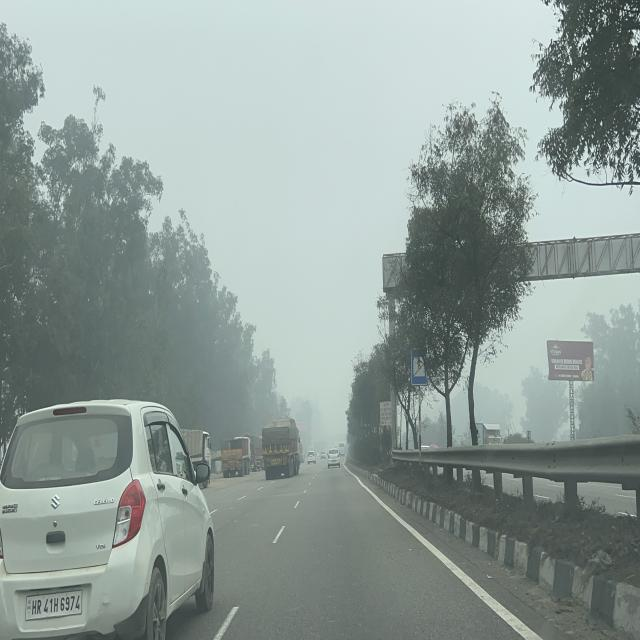INFORMATION: (411, 348, 428, 387)
